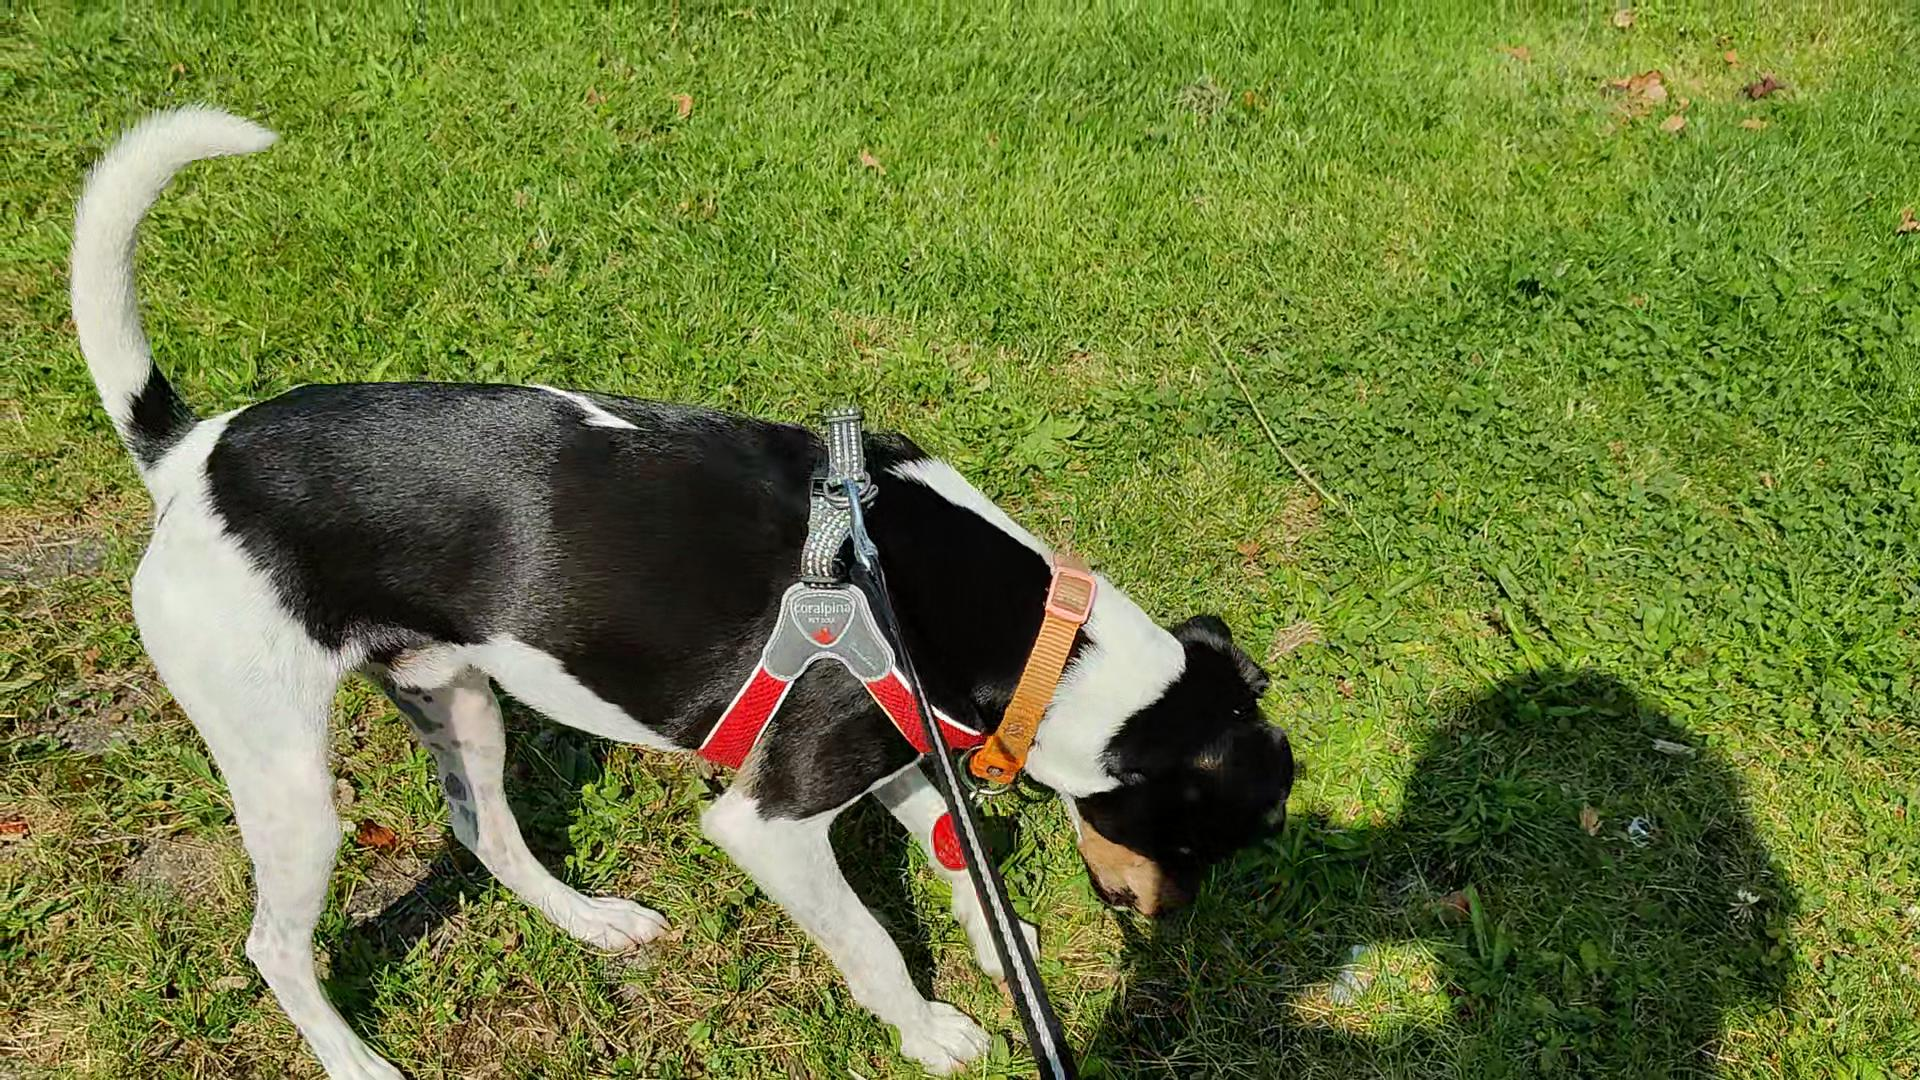Dog: (59, 88, 1315, 1079)
